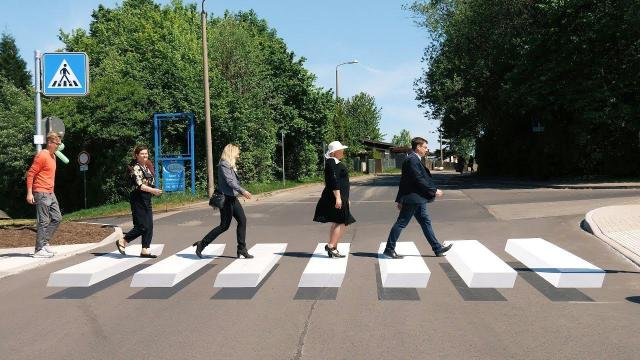crosswalk-sign: (43, 53, 90, 98)
